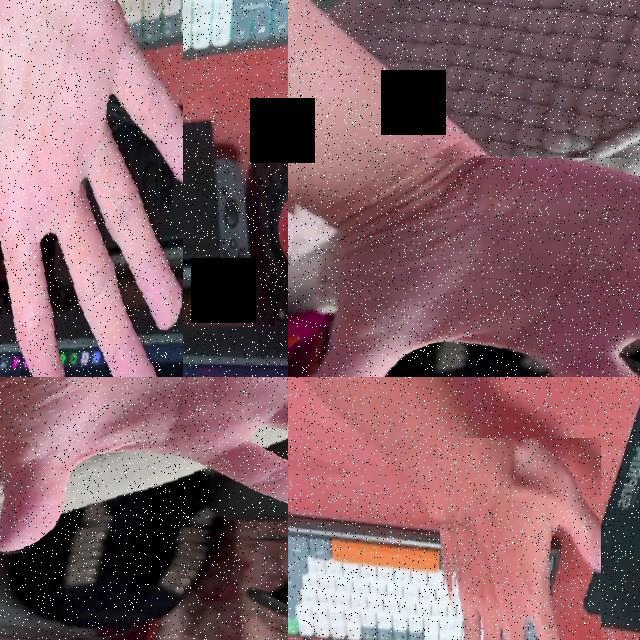keyboard-with-hands: (289, 527, 557, 640)
